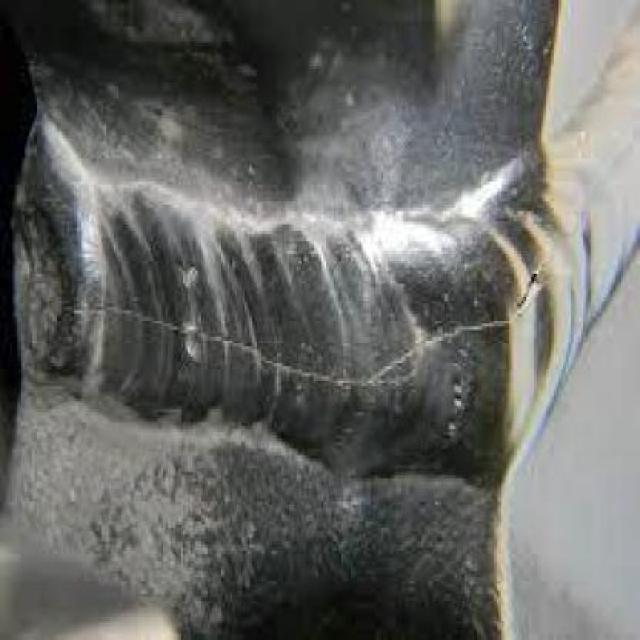Defect: (59, 267, 553, 396)
